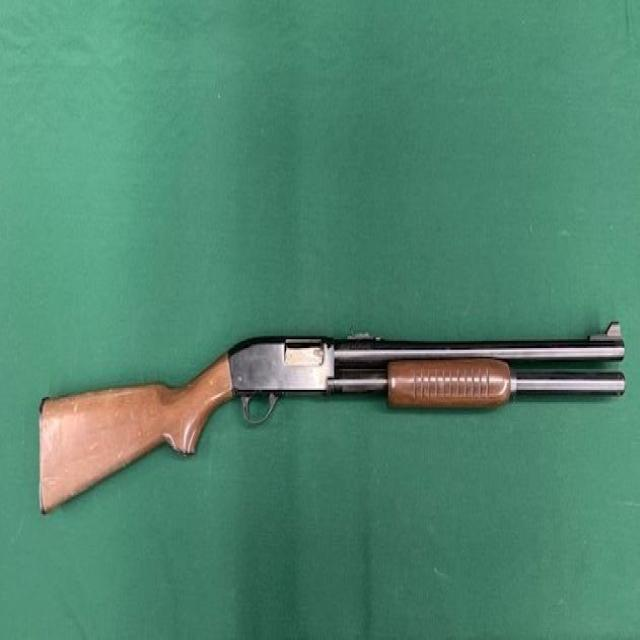ShotGun: (39, 323, 628, 514)
